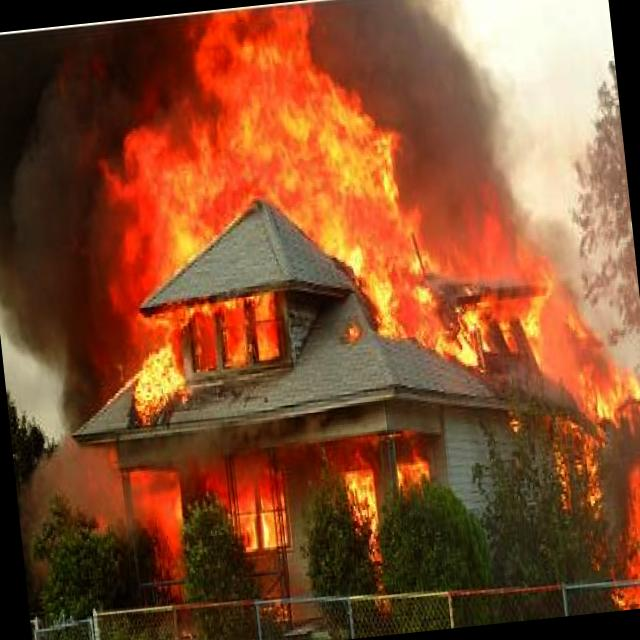Fire_Dangerous: (74, 2, 555, 412), (552, 302, 640, 614), (218, 458, 286, 554), (346, 461, 392, 584), (396, 442, 440, 508)
